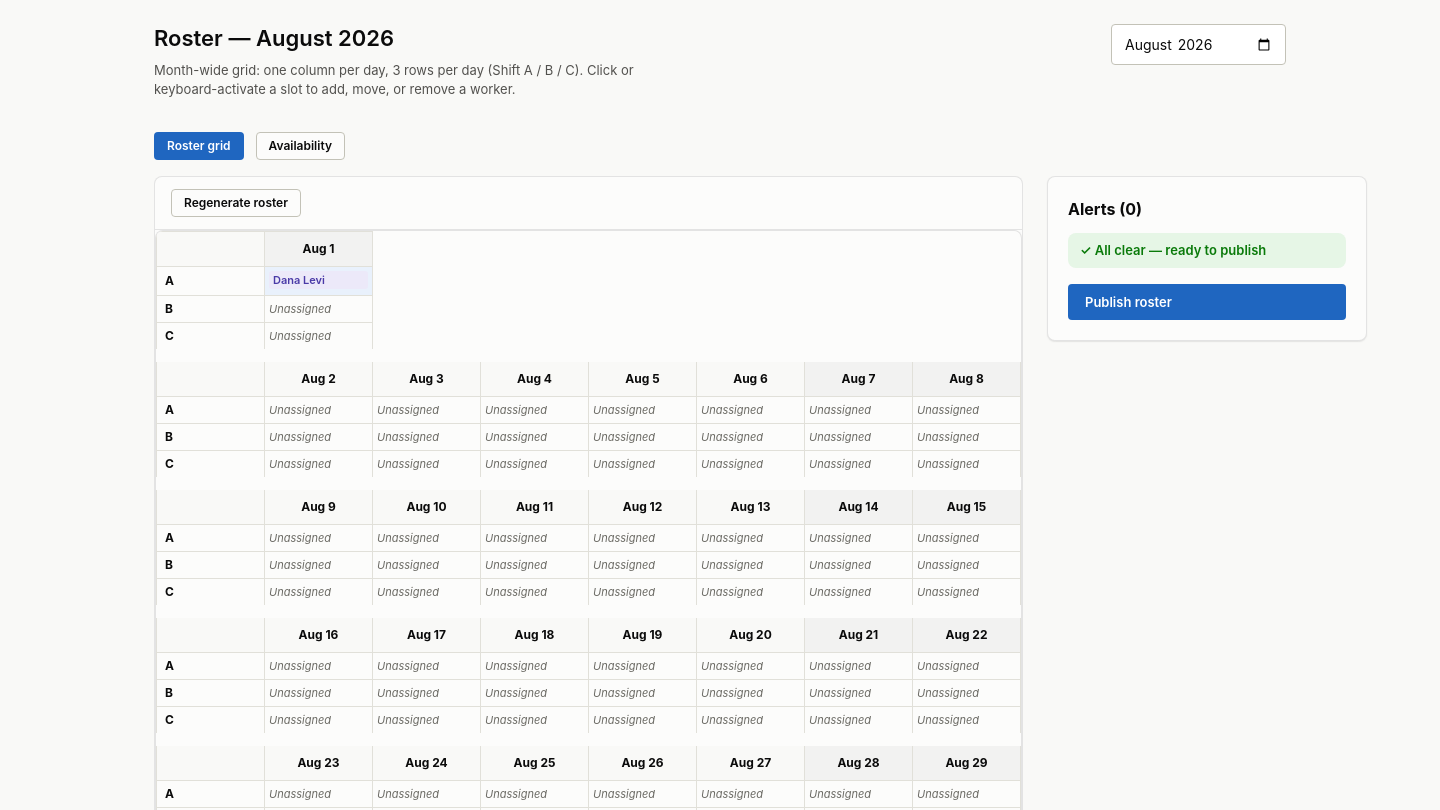
Test: RosterPage › blocks a manual add on a 422 hard-rule violation with a single-OK notice, and returns focus to the originating grid cell
Click the cell with test id "cal-cell-2026-08-01-A" at (318, 281), box [264,266,372,296]
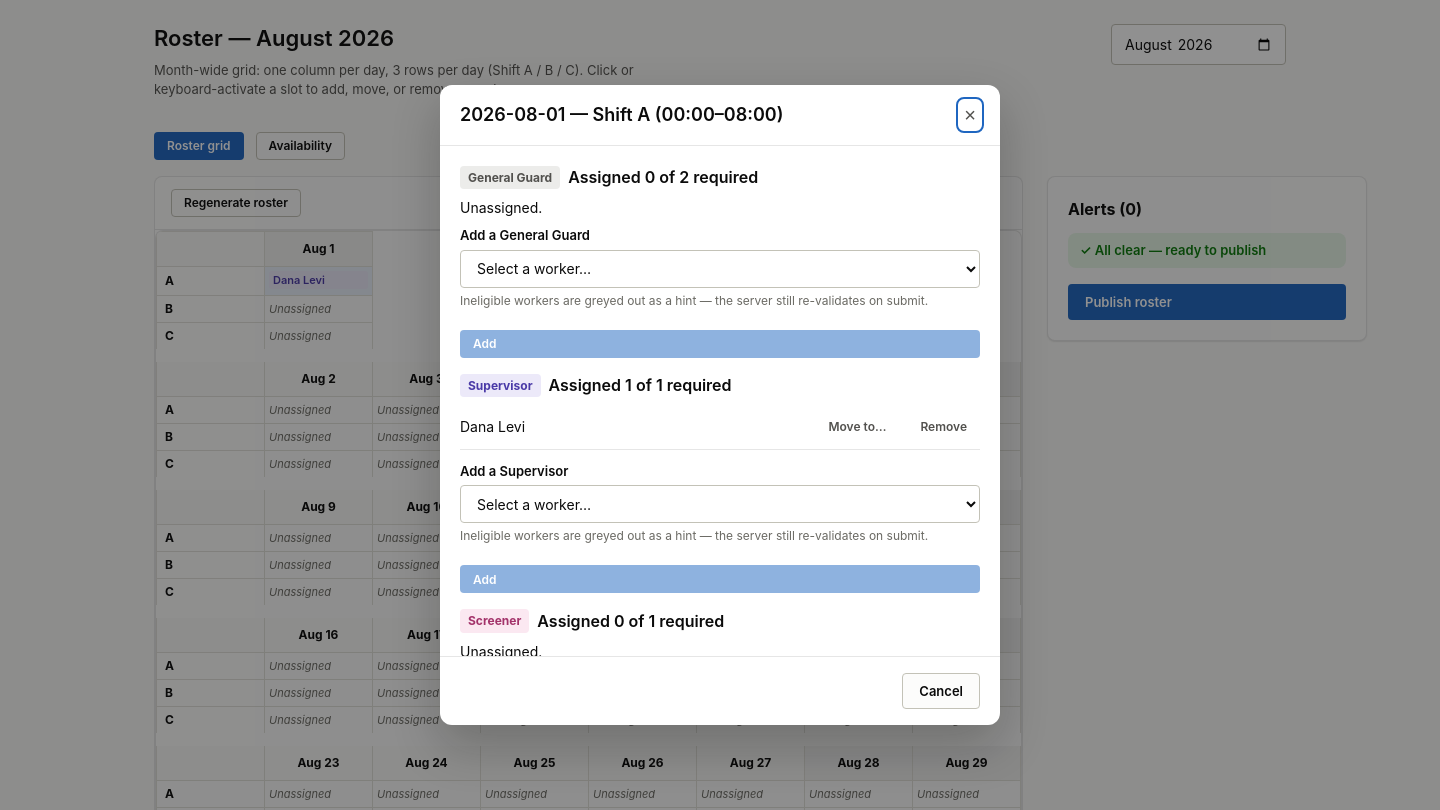
Select "Omer Cohen (available)" in the dropdown labelled "Add a General Guard" at (720, 269), box [460,250,980,288]
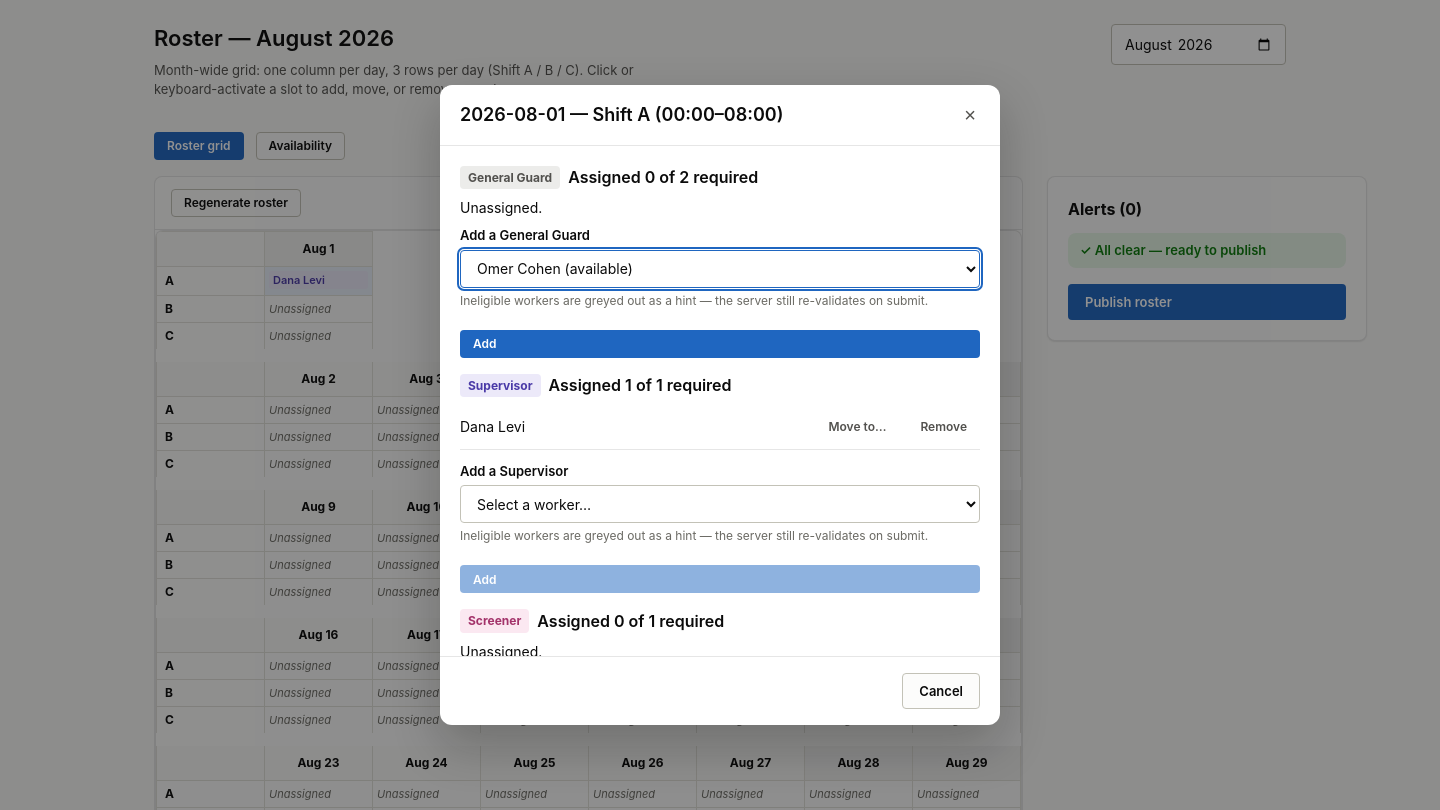
Click the button with aria-label "Add General Guard" at (485, 344), box [460,330,980,358]
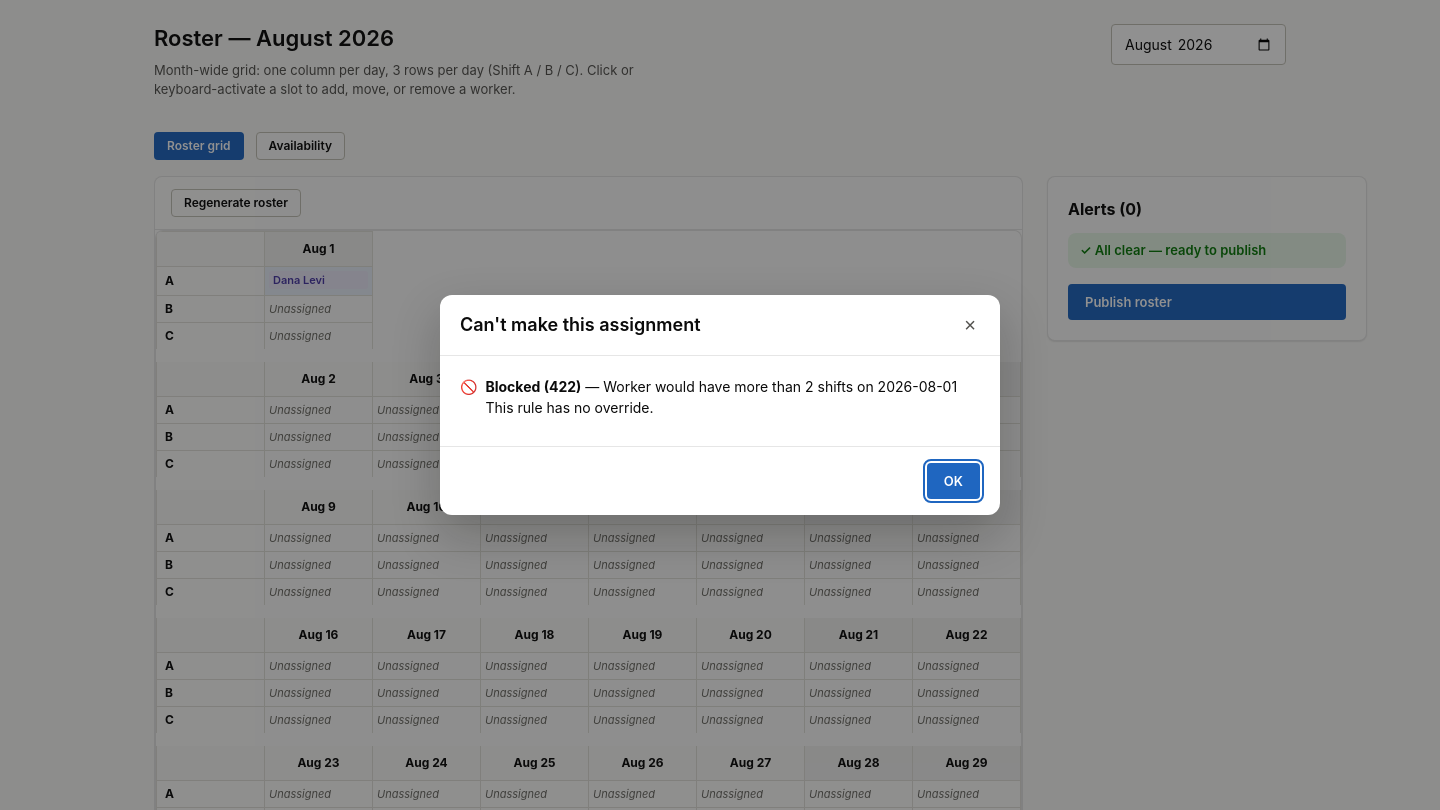
Check: the text "Worker would have more than 2 shifts" is shown, box [603,378,957,395]
Check: the button "Cancel" is gone
Click the button "OK" at (953, 481), box [927,463,980,499]
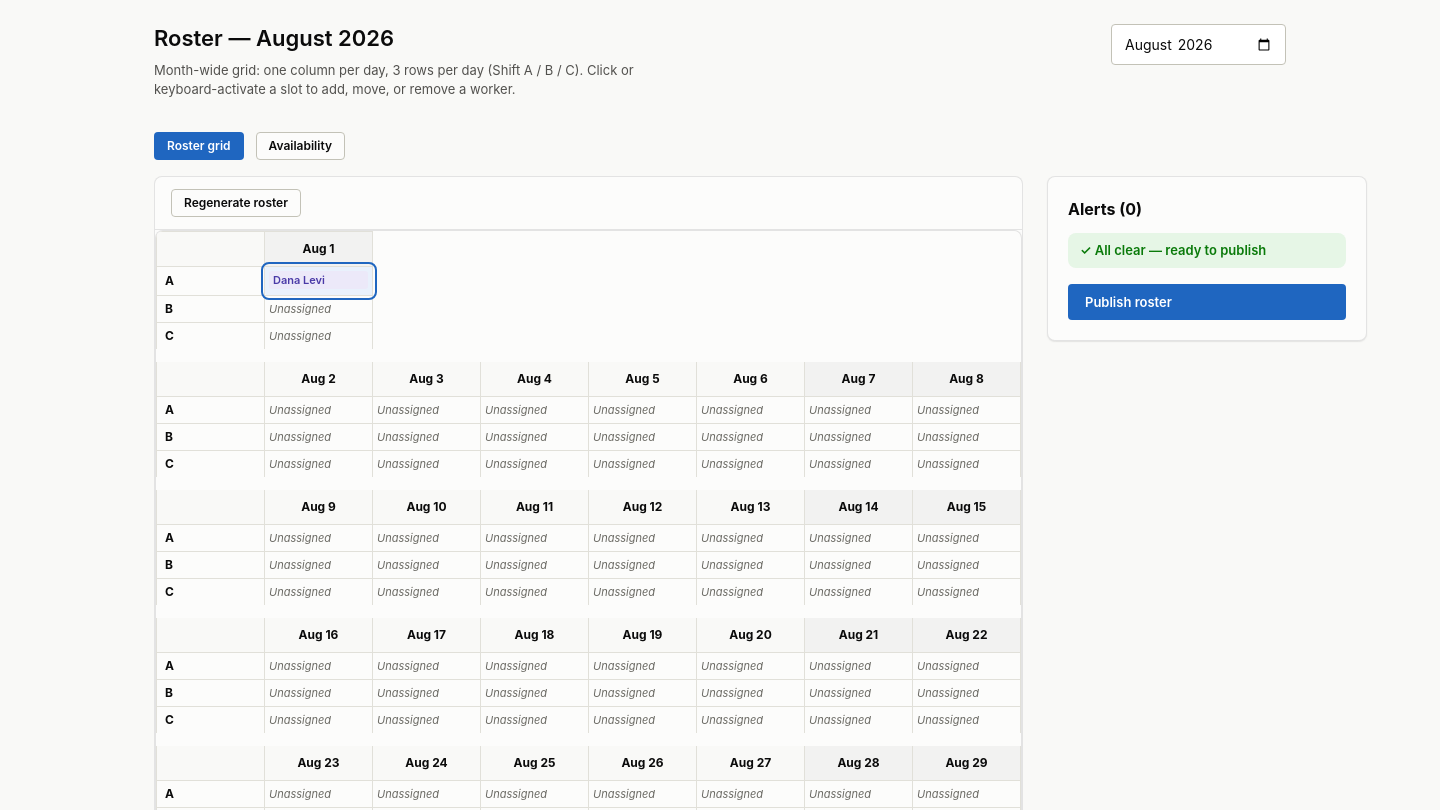
Check: the dialog is gone
